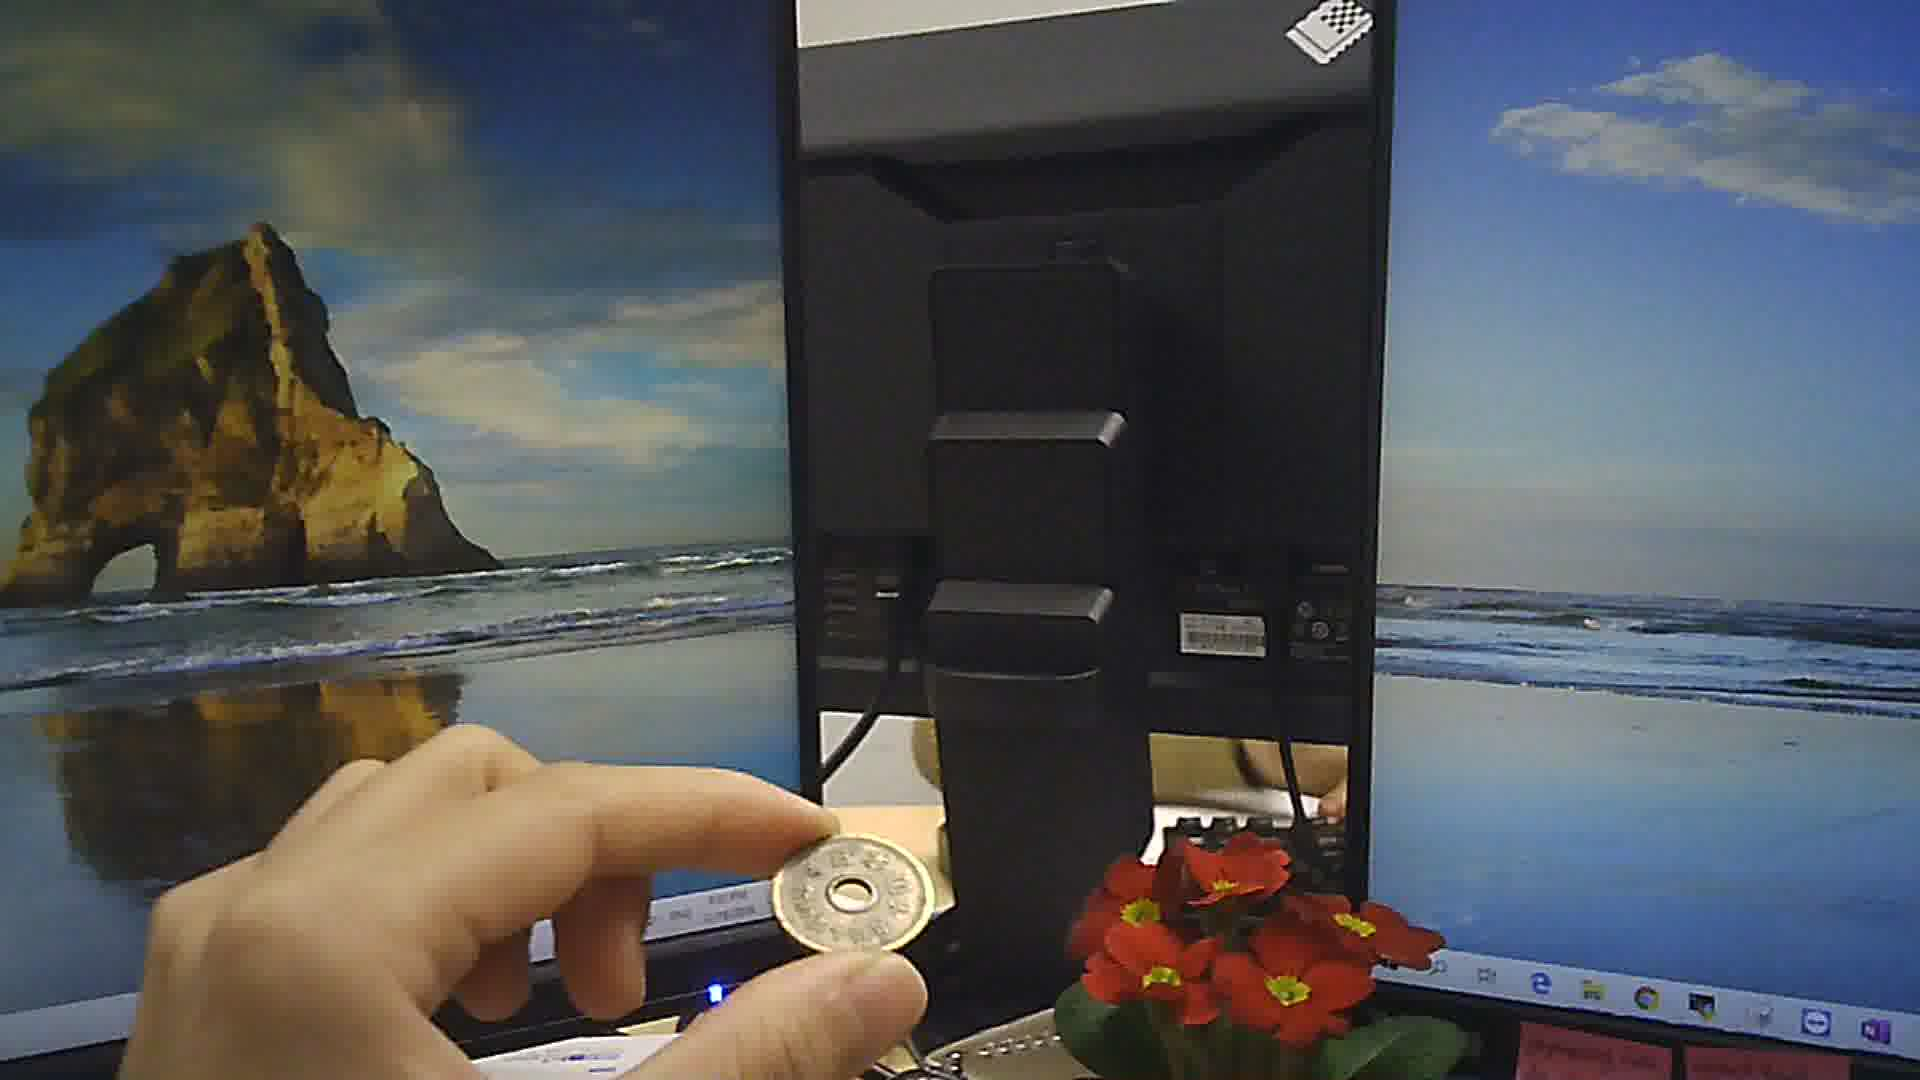5 Yen: (767, 831, 932, 961)
